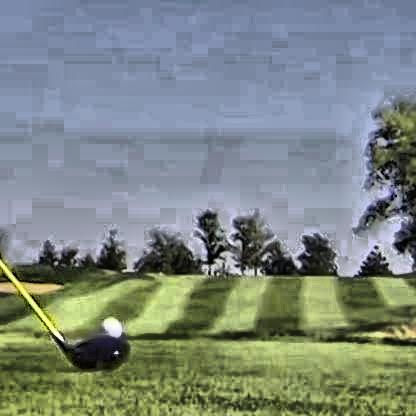golfball: (98, 315, 119, 339)
